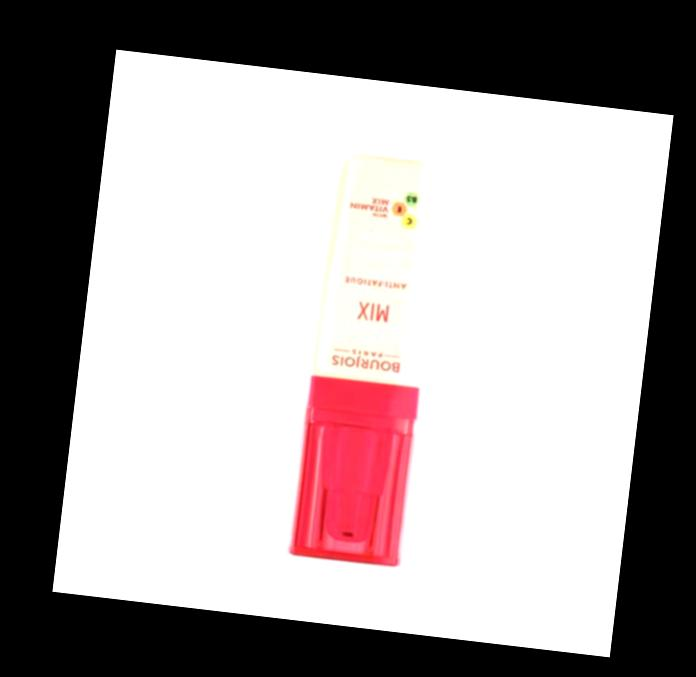cosmetic: (282, 122, 455, 567)
